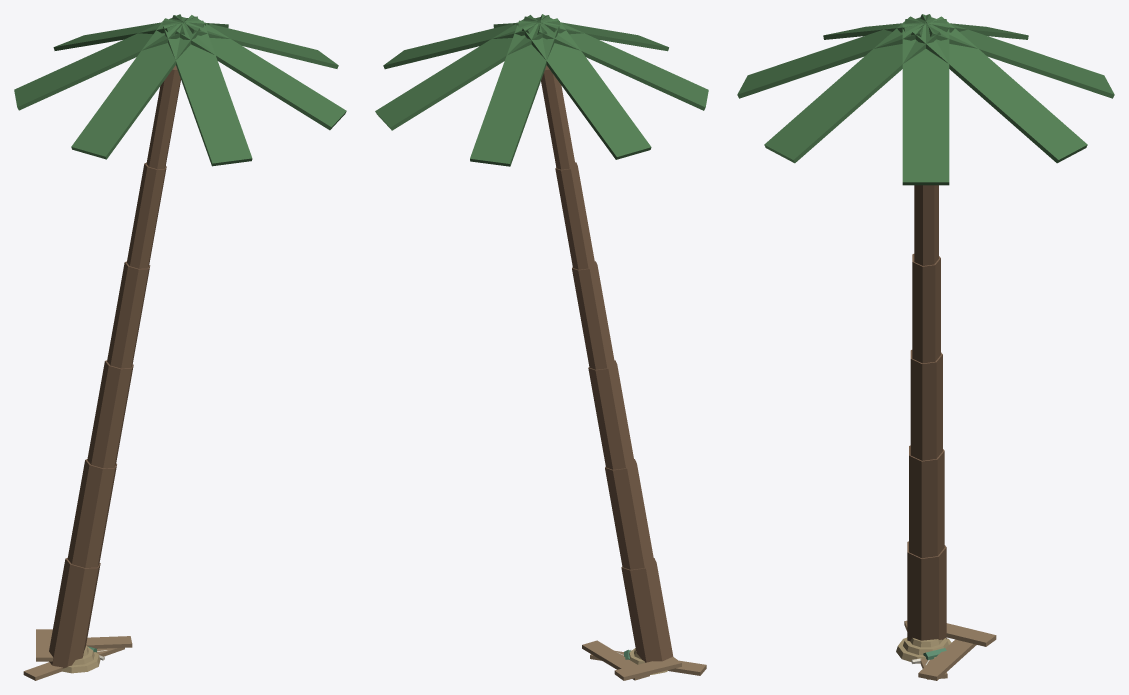
The model's file is props.glb.
The picture shows the model from 3 angles, left to right: view 1: azimuth 30°, elevation 25°; view 2: azimuth 150°, elevation 25°; view 3: azimuth 270°, elevation 25°; orthographic projection. The views are drawn at different scales.
Parts seen in each view (by area): view 1: Frond_495, Frond_494, Frond_496, Trunk_484, Frond_493, Trunk_485, Trunk_486, Trunk_487, Trunk_488, Trunk_489, Frond_490, Frond_492 (+3 smaller); view 2: Frond_492, Frond_493, Frond_491, Frond_494, Trunk_484, Trunk_485, Trunk_486, Trunk_487, Trunk_488, Trunk_489, Frond_490, Frond_495 (+2 smaller); view 3: Frond_490, Frond_491, Frond_496, Trunk_485, Trunk_484, Frond_492, Frond_495, Trunk_486, Trunk_487, Trunk_488, Plank_478, Plank_479 (+2 smaller).
Part boxes in pixels (x1,y1,x2,y2): Frond_495: (163, 20, 252, 166); Frond_494: (71, 18, 200, 159); Frond_496: (175, 15, 346, 130); Trunk_484: (49, 558, 100, 668); Frond_493: (14, 14, 184, 110); Trunk_485: (67, 459, 116, 567); Trunk_486: (87, 360, 133, 468); Trunk_487: (107, 261, 150, 368); Trunk_488: (126, 162, 166, 268); Trunk_489: (146, 65, 180, 169); Frond_490: (172, 15, 338, 68); Frond_492: (53, 16, 198, 50); Frond_492: (470, 20, 559, 166); Frond_493: (522, 18, 651, 159); Frond_491: (375, 15, 547, 130); Frond_494: (537, 14, 708, 110); Trunk_484: (621, 558, 673, 662); Trunk_485: (605, 459, 654, 569); Trunk_486: (588, 360, 634, 469); Trunk_487: (572, 261, 614, 369); Trunk_488: (555, 162, 595, 269); Trunk_489: (541, 65, 575, 169); Frond_490: (383, 15, 550, 69); Frond_495: (524, 16, 668, 51); Frond_490: (902, 24, 949, 185); Frond_491: (911, 16, 1087, 163); Frond_496: (764, 16, 940, 163); Trunk_485: (909, 445, 944, 558); Trunk_484: (907, 541, 946, 641); Frond_492: (920, 14, 1114, 98); Frond_495: (737, 14, 931, 98); Trunk_486: (910, 350, 942, 460); Trunk_487: (912, 254, 940, 363); Trunk_488: (914, 185, 938, 265); Plank_478: (918, 639, 976, 680); Plank_479: (946, 623, 996, 646).
Size of the model in its own units: 4.22 by 8.12 by 4.03.
